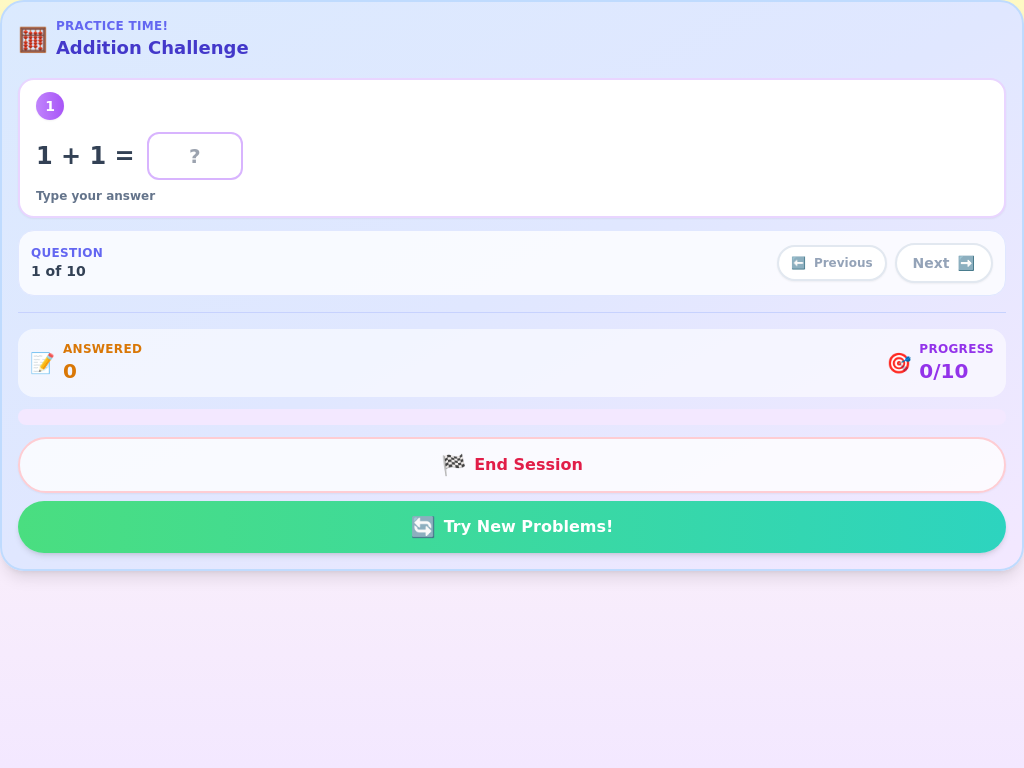
Test case: EquationList › advances to the next question with Next
Type "1" into the field named "question 1".
click(195, 156); type("1")  # box [147,132,243,180]
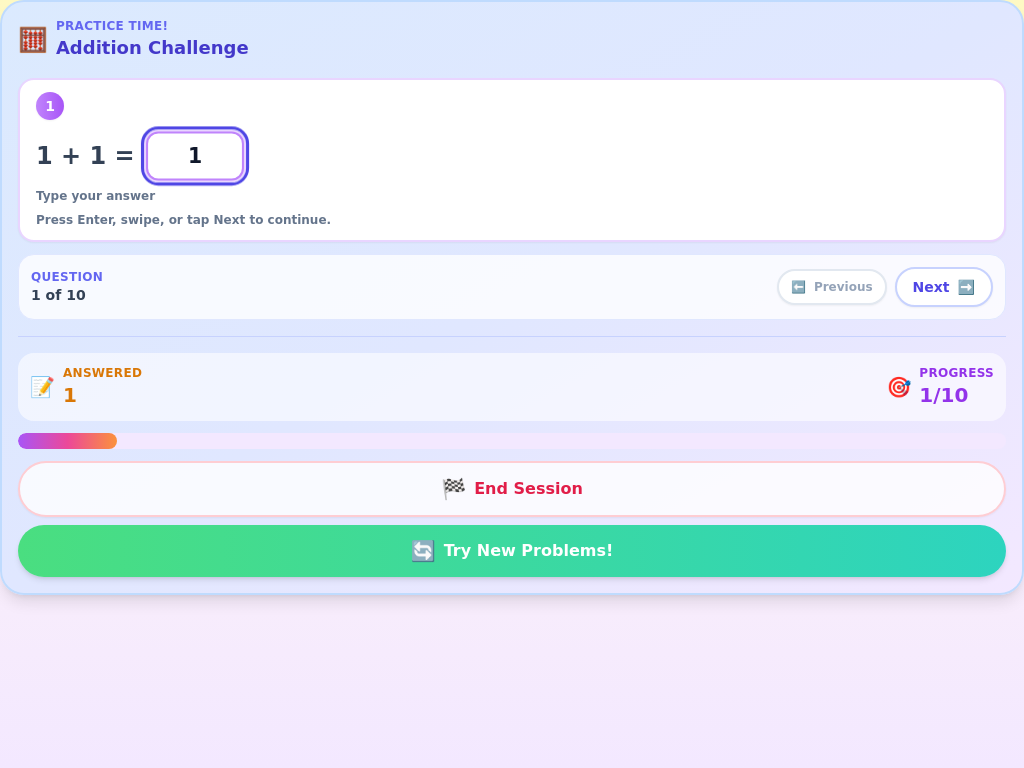
Click the button with aria-label "go to next question".
click(944, 287)  # box [895,267,993,307]
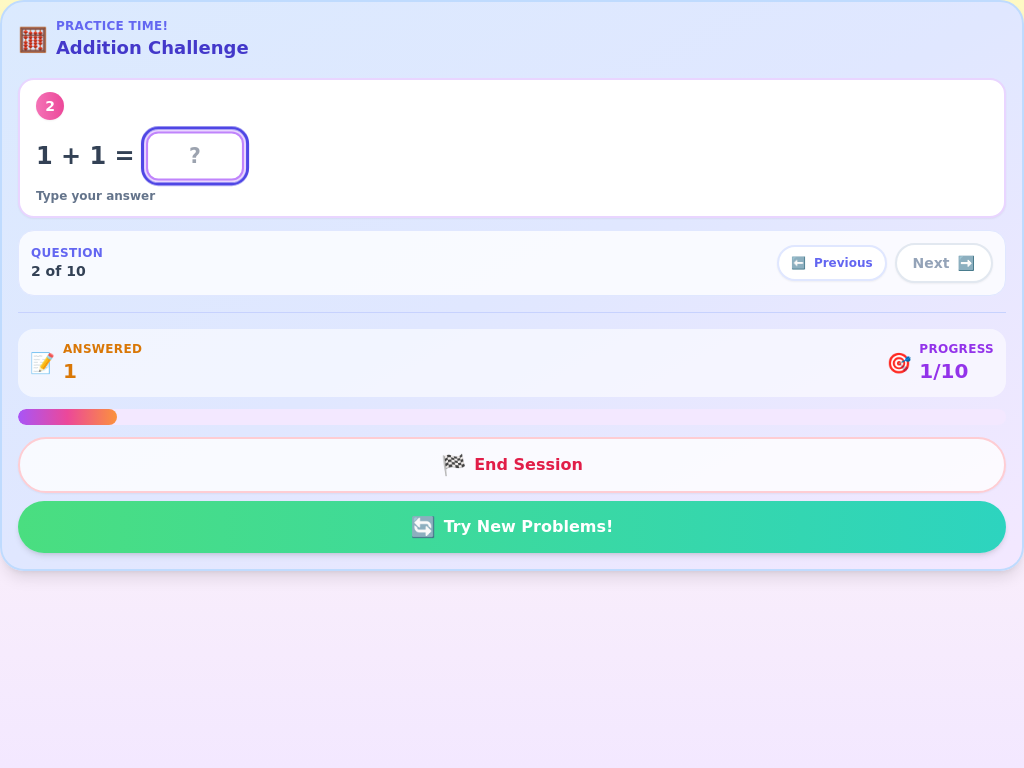
Expected: the field named "question 2" is shown, [146,132,244,180]
